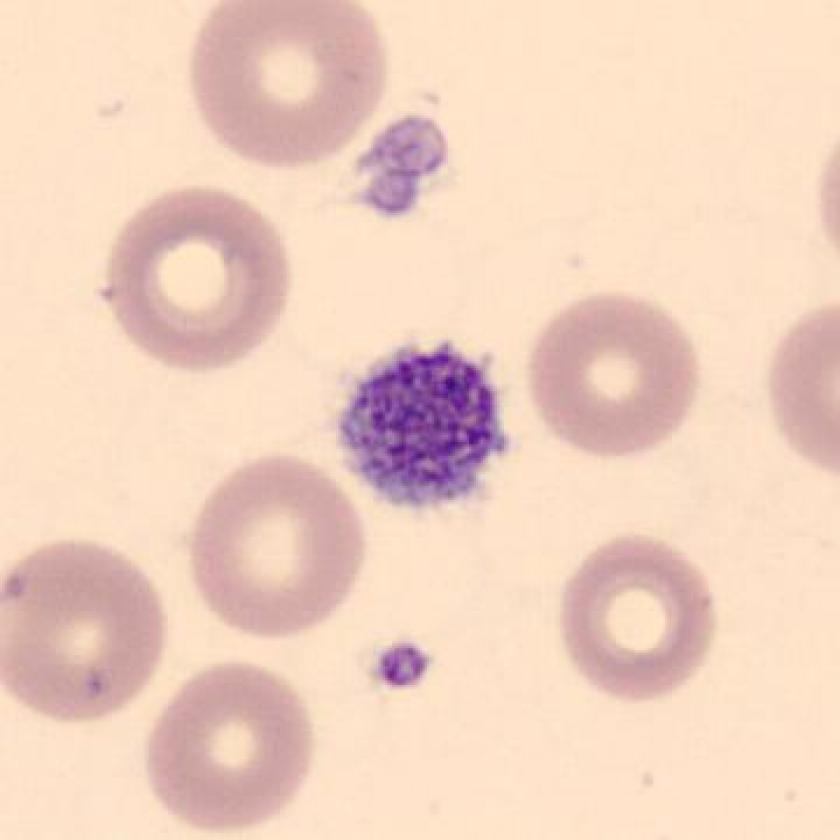platelets: (328, 339, 519, 529), (363, 637, 447, 707)
